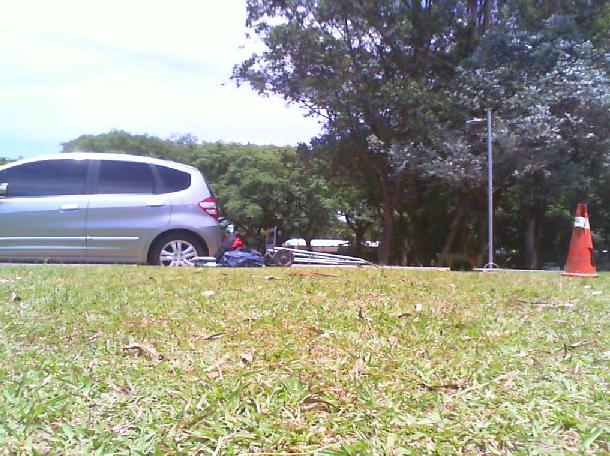0 cone: (560, 205, 598, 277)
